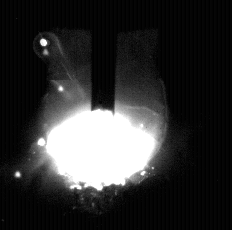arame: (91, 0, 117, 116)
poca: (43, 0, 167, 230)
